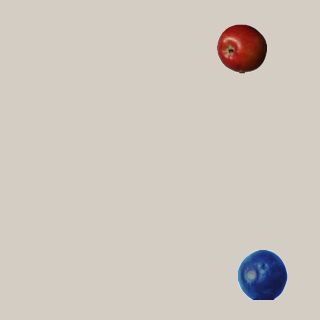Apple Braeburn: (216, 23, 266, 73)
Huckleberry: (237, 249, 287, 299)
